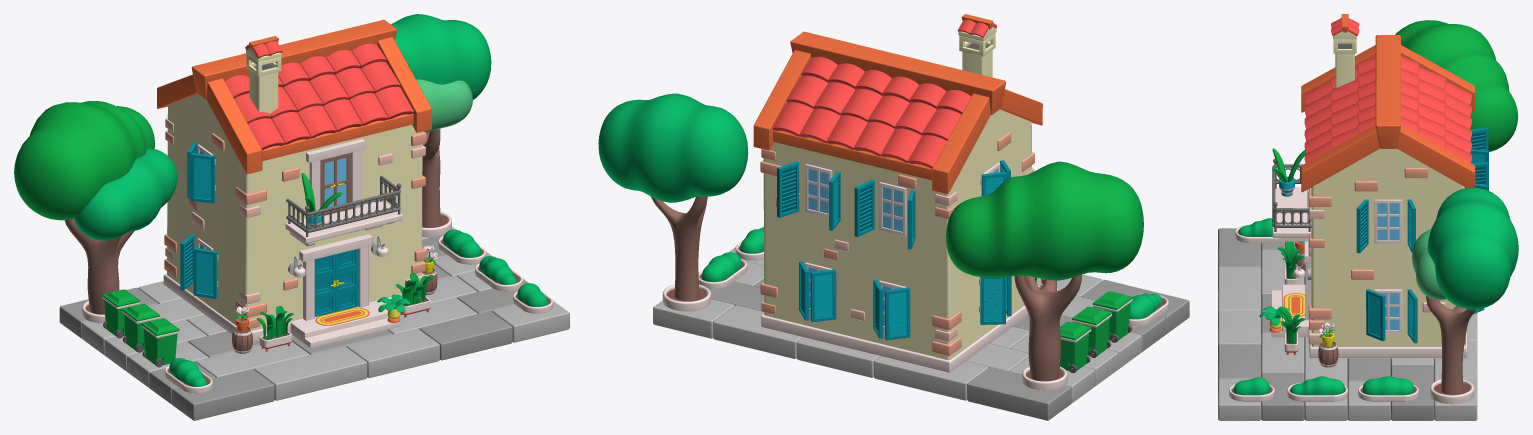
The model's file is City_Island_11.glb.
The picture shows the model from 3 angles, left to right: view 1: azimuth 30°, elevation 25°; view 2: azimuth 150°, elevation 25°; view 3: azimuth 270°, elevation 25°; orthographic projection. The views are drawn at different scales.
Parts seen in each view (by area): view 1: City_11_House_1, City_11_Base_1, City_11_Tree_2, City_11_Tree_1, City_11_Trash_Can_3, City_11_Bush_4, City_11_Bush_2, City_11_Bush_1, City_11_Trash_Can_1, City_11_Trash_Can_2, City_11_Plant_4, City_11_Plant_1 (+4 smaller); view 2: City_11_House_1, City_11_Tree_2, City_11_Base_1, City_11_Tree_1, City_11_Trash_Can_1, City_11_Bush_1, City_11_Trash_Can_2, City_11_Trash_Can_3, City_11_Bush_4, City_11_Bush_2; view 3: City_11_House_1, City_11_Base_1, City_11_Tree_1, City_11_Tree_2, City_11_Bush_1, City_11_Bush_2, City_11_Bush_3, City_11_Bush_4, City_11_Plant_2, City_11_Plant_1, City_11_Plant_4, City_11_Carpet_1 (+3 smaller).
Boxes of the visible parts, x1,y1,x2,y2 form: City_11_House_1: (157,19,431,348); City_11_Base_1: (59,227,569,420); City_11_Tree_2: (14,100,177,323); City_11_Tree_1: (391,14,491,237); City_11_Trash_Can_3: (141,318,179,367); City_11_Bush_4: (164,358,212,393); City_11_Bush_2: (475,256,522,291); City_11_Bush_1: (438,229,485,264); City_11_Trash_Can_1: (102,289,140,338); City_11_Trash_Can_2: (122,304,159,352); City_11_Plant_4: (257,306,293,351); City_11_Plant_1: (395,273,434,317); City_11_House_1: (753,14,1042,372); City_11_Tree_2: (946,161,1143,390); City_11_Base_1: (653,226,1189,420); City_11_Tree_1: (598,93,748,311); City_11_Trash_Can_1: (1060,321,1091,373); City_11_Bush_1: (698,252,747,289); City_11_Trash_Can_2: (1072,306,1111,357); City_11_Trash_Can_3: (1092,291,1132,342); City_11_Bush_4: (1129,293,1168,326); City_11_Bush_2: (735,227,763,260); City_11_House_1: (1271,14,1488,358); City_11_Base_1: (1218,228,1477,420); City_11_Tree_1: (1412,187,1518,404); City_11_Tree_2: (1395,20,1518,151); City_11_Bush_1: (1358,376,1418,401); City_11_Bush_2: (1287,376,1347,401); City_11_Bush_3: (1229,377,1274,401); City_11_Bush_4: (1235,218,1285,243); City_11_Plant_2: (1272,148,1306,196); City_11_Plant_1: (1279,308,1305,354); City_11_Plant_4: (1277,241,1304,284); City_11_Carpet_1: (1283,293,1305,316).
Bounding box in the file's own units: 18.18 × 10.73 × 10.14.
Materials: 22 (22 with a texture image).
